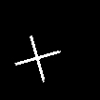single_crochet: (15, 36, 59, 81)
